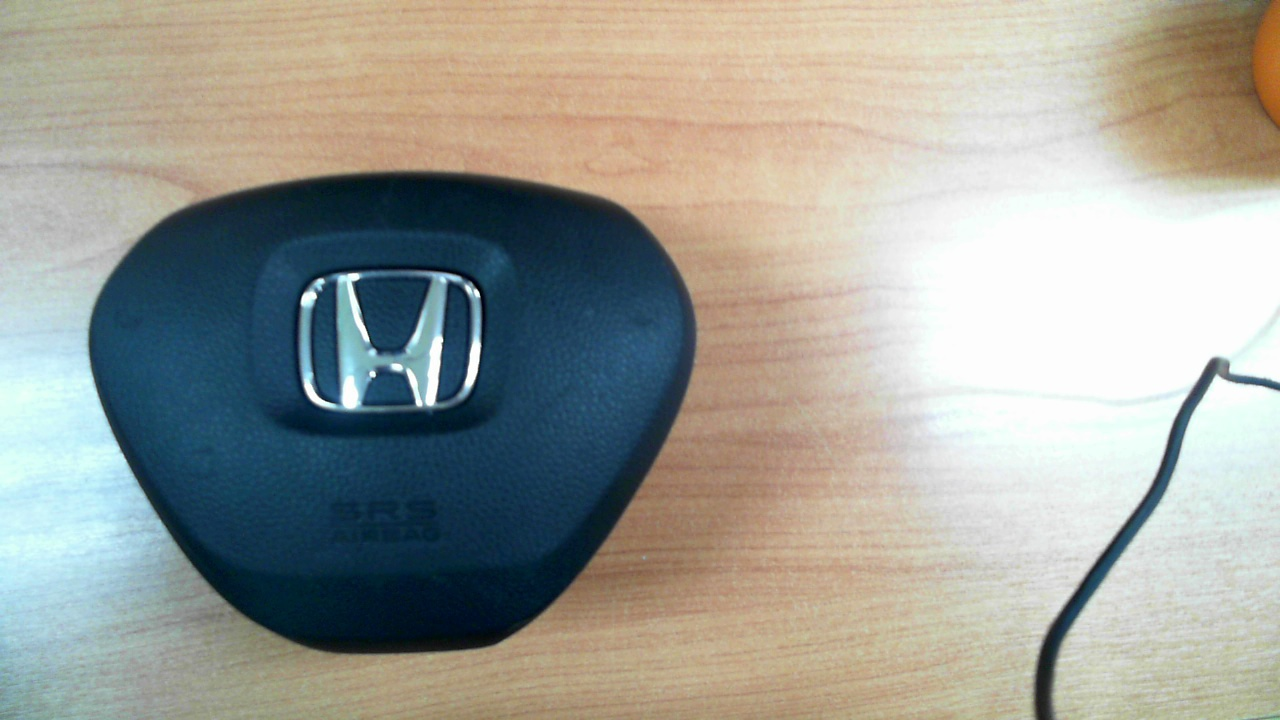Airbag: (87, 171, 697, 654)
Honda: (298, 269, 483, 414)
